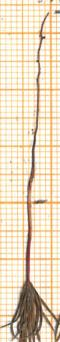flower: (0, 281, 60, 342)
root: (23, 10, 52, 203)
stem: (20, 203, 36, 281)
